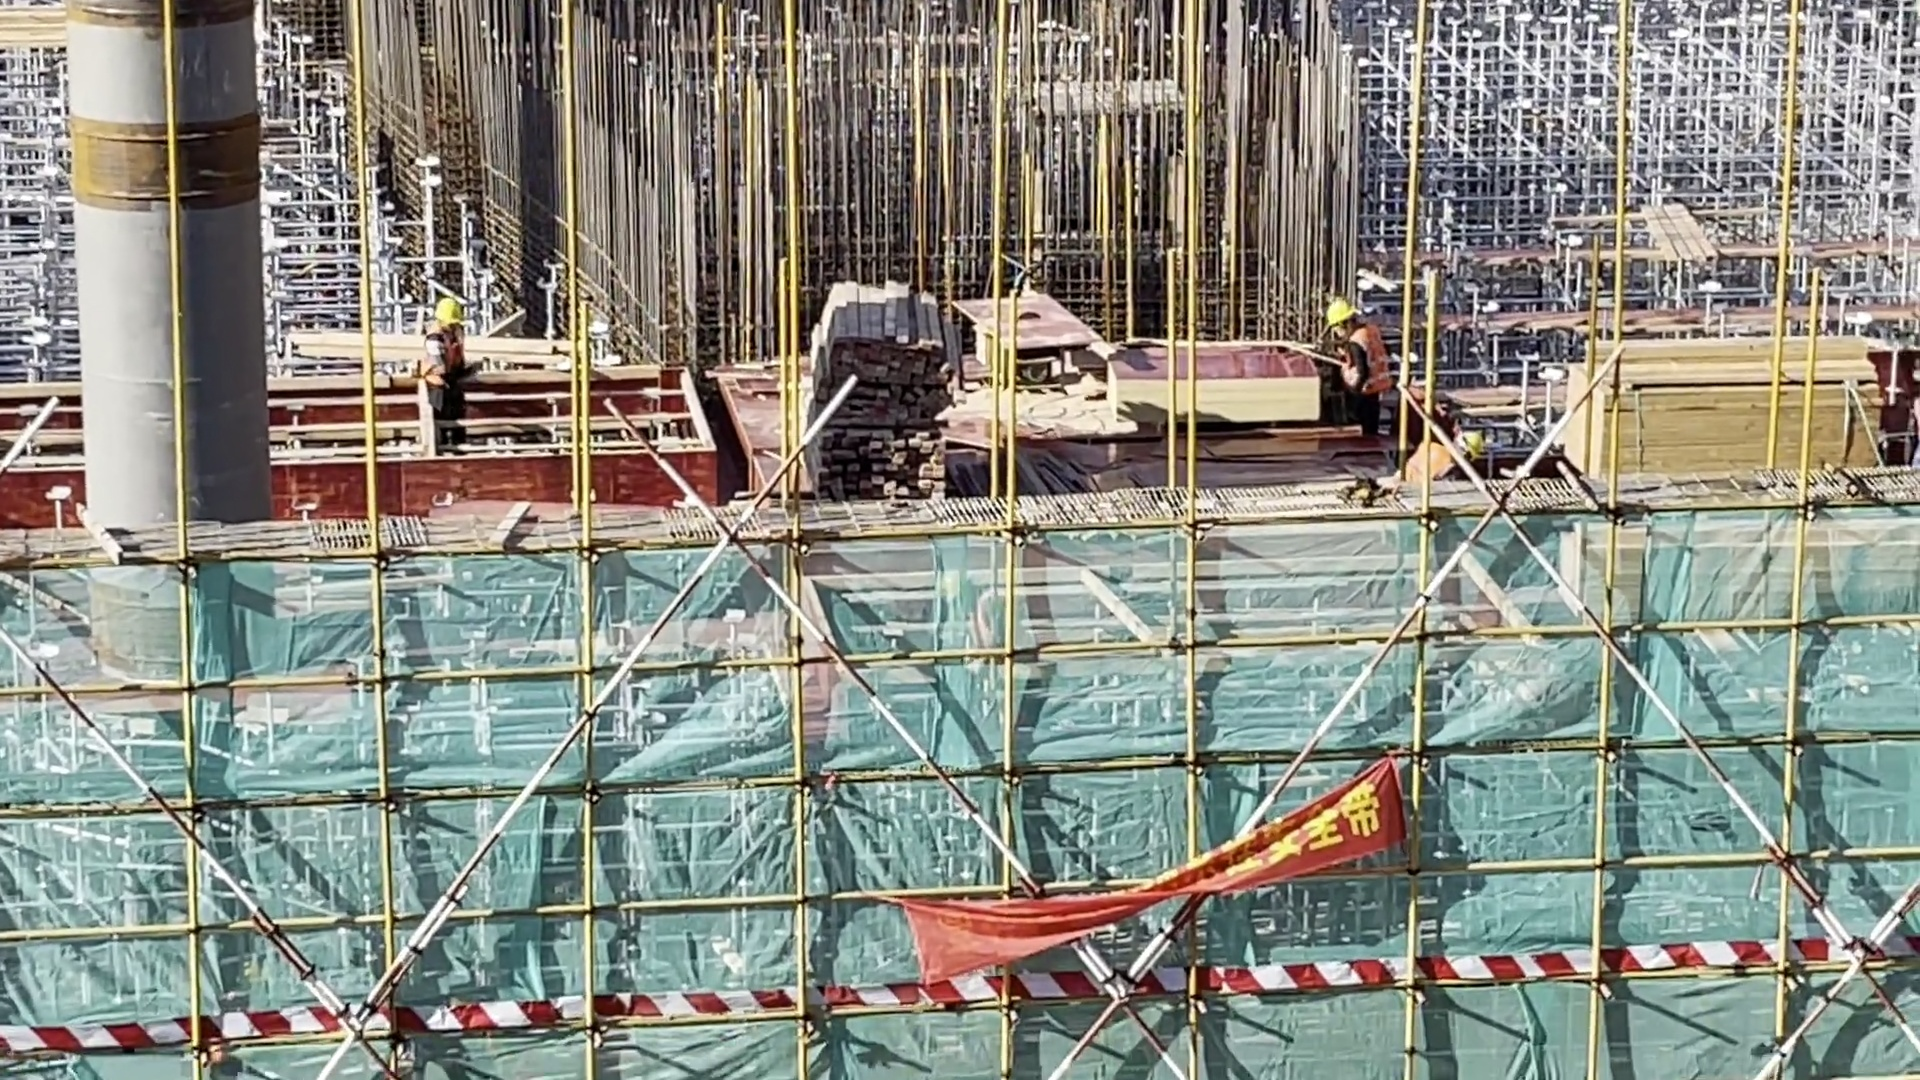helmet: (433, 289, 464, 330), (1323, 293, 1356, 330)
person: (1315, 295, 1403, 452), (412, 294, 484, 448)
slogan: (865, 731, 1431, 994)
vest: (1338, 324, 1400, 412), (412, 334, 470, 409)
wood: (1555, 309, 1903, 508), (804, 261, 969, 497)
